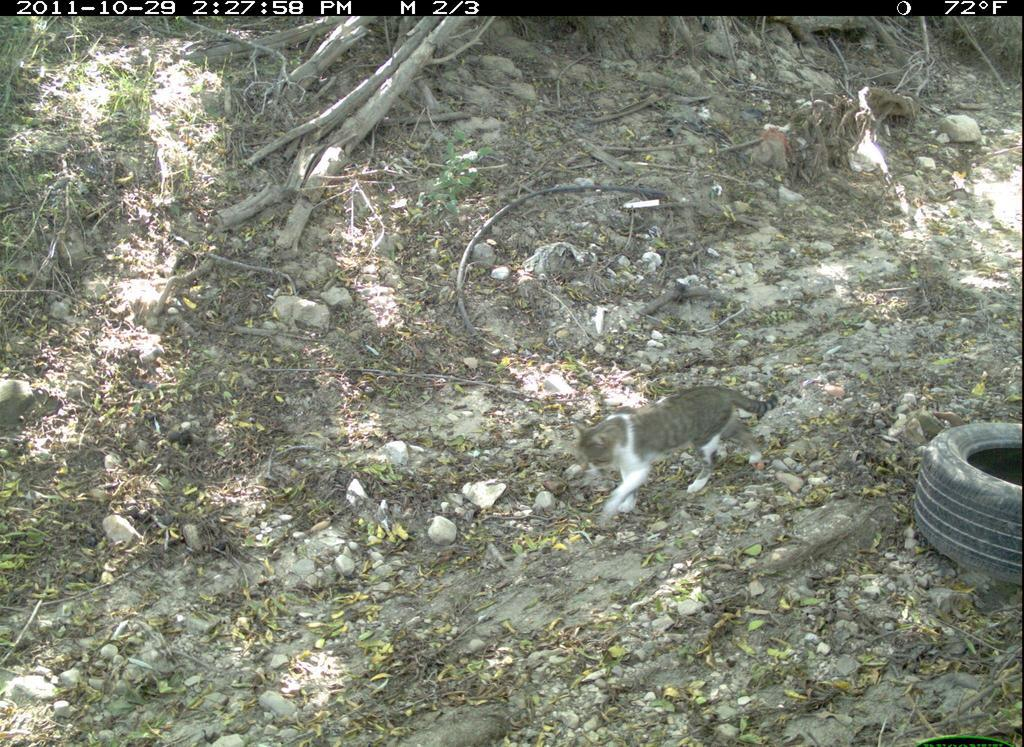cat: (555, 358, 808, 548)
